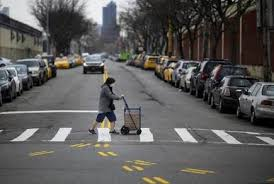mask: (106, 77, 115, 88)
